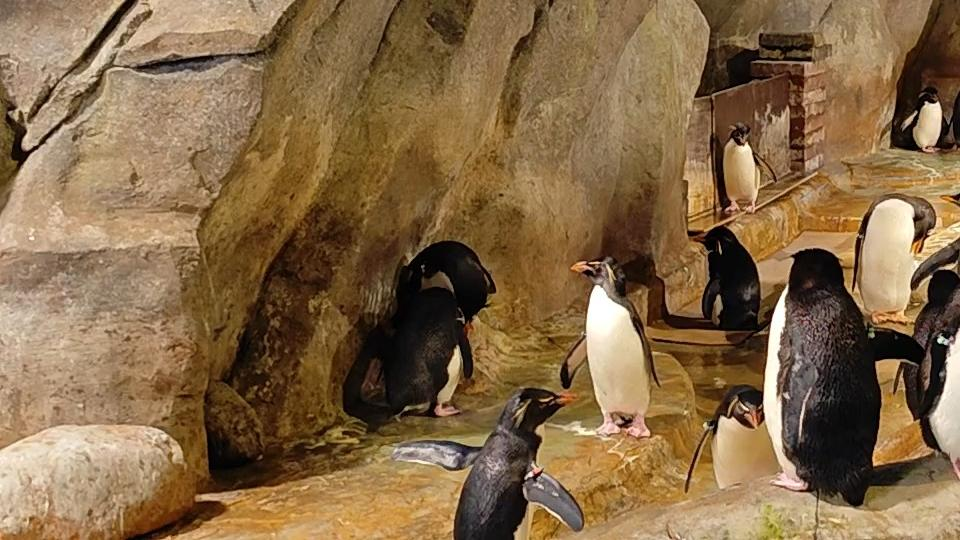Southern Rockhopper Penguin: (759, 241, 926, 516), (386, 384, 587, 540), (551, 250, 667, 447), (357, 281, 476, 431), (677, 381, 781, 505), (910, 241, 960, 495), (389, 231, 501, 331), (684, 223, 764, 337), (710, 117, 780, 217), (896, 83, 944, 158), (944, 79, 960, 150)
